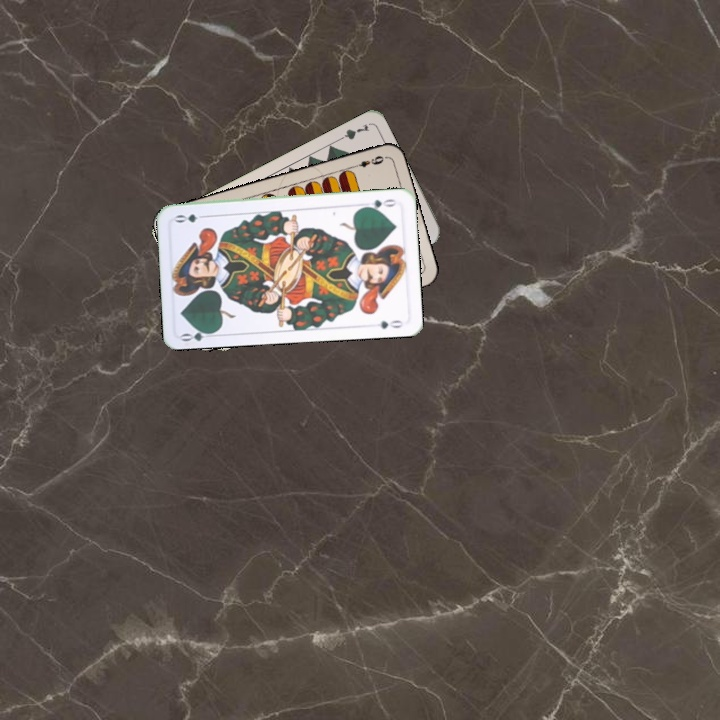E9: (348, 152, 386, 170)
G7: (333, 120, 372, 144)
GO: (178, 324, 218, 344), (359, 195, 400, 212)
